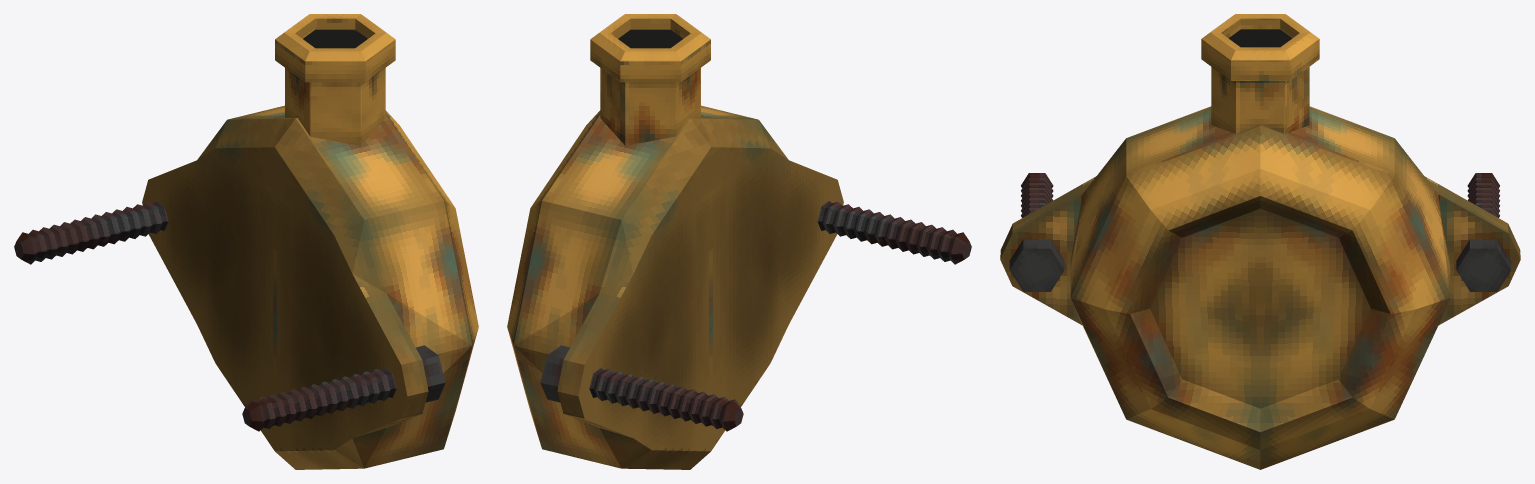
Rendered from SwitchHousingBrass.glb.
The picture shows the model from 3 angles, left to right: view 1: azimuth 30°, elevation 25°; view 2: azimuth 150°, elevation 25°; view 3: azimuth 270°, elevation 25°; orthographic projection. The views are drawn at different scales.
Parts seen in each view (by area): view 1: Cylinder.011; view 2: Cylinder.011; view 3: Cylinder.011.
Boxes of the visible parts, x1,y1,x2,y2 form: Cylinder.011: (14, 14, 478, 469); Cylinder.011: (507, 14, 971, 469); Cylinder.011: (1000, 14, 1520, 469).
Size of the model in its own units: 0.8879 by 1.31 by 1.48.
Materials: 3 (3 with a texture image).
